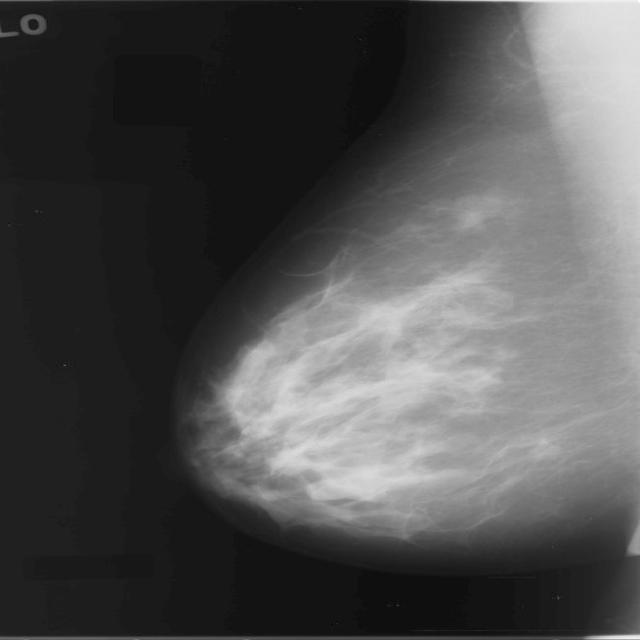tumour: (414, 263, 504, 306)
